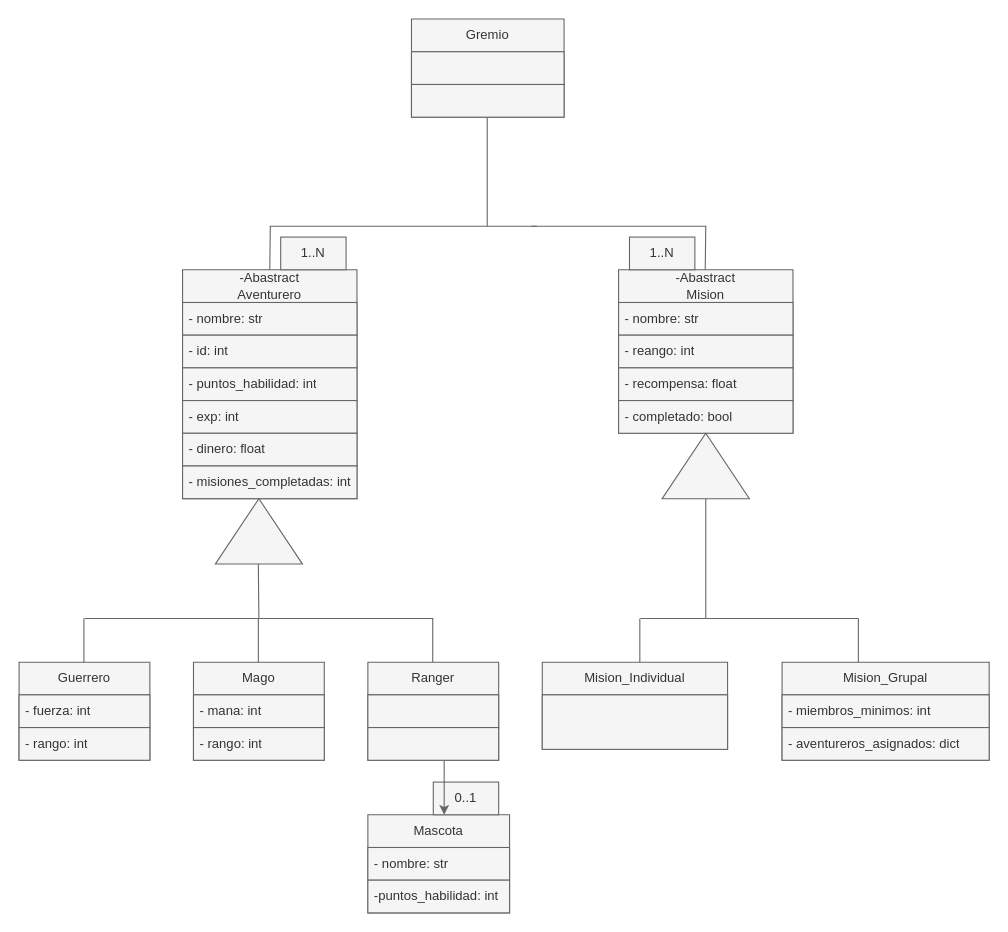
Image size: 1008x932. Some labels were removed from this diagram. Here are the shapes that lost their labels. From the top down, the centre of each, then its label:
At [487,67]: "- aventureros: dict".
At [487,100]: "- misiones: dict".
At [433,711]: "- mascota".
At [634,721]: "- aventurero_asignado: dict".
At [433,743]: "- rango".
